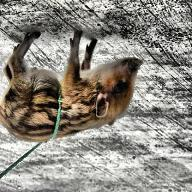boar: (0, 18, 157, 156)
